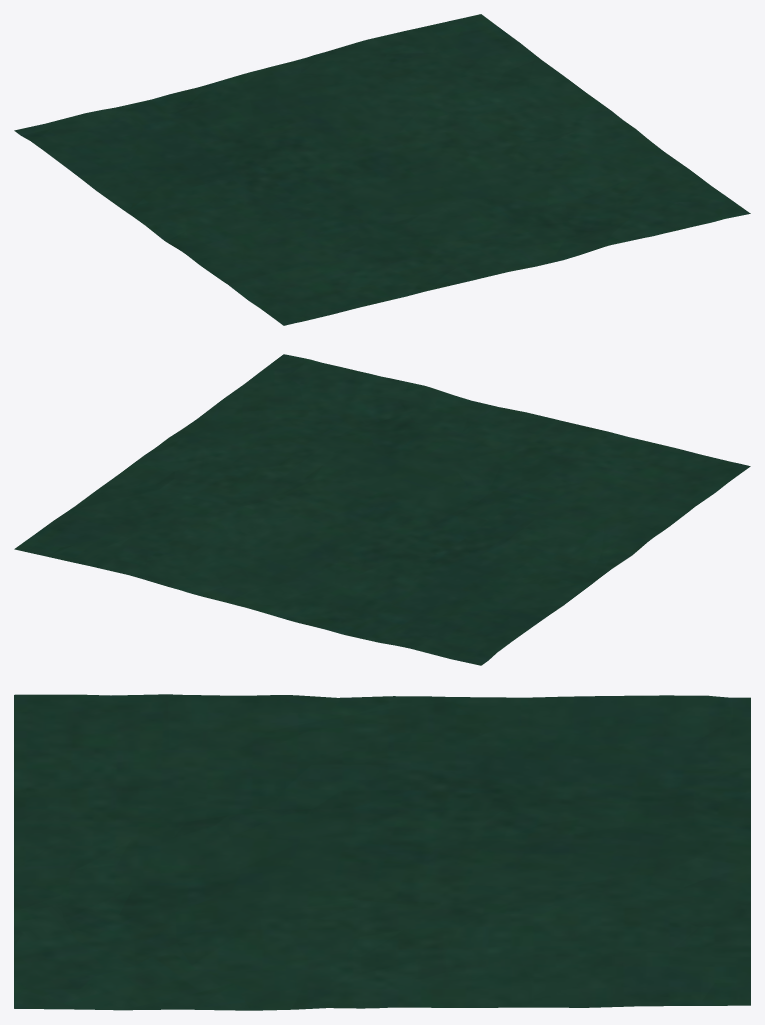
3 renders of one model, top to bottom at view 1: azimuth 30°, elevation 25°; view 2: azimuth 150°, elevation 25°; view 3: azimuth 270°, elevation 25°, orthographic. The views are drawn at different scales.
Size of the model in its own units: 52.22 by 0.9471 by 52.22.
Materials: 2 (2 with a texture image).
